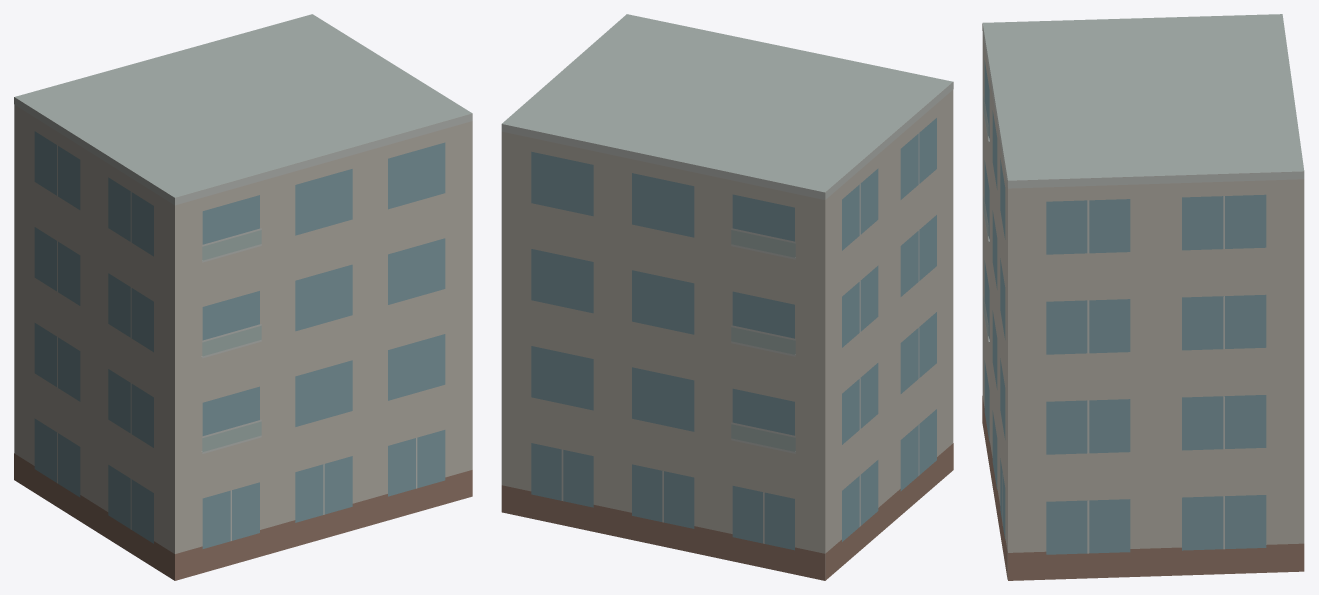
The model's file is survey-upis-33013196.glb.
The picture shows the model from 3 angles, left to right: view 1: azimuth 30°, elevation 25°; view 2: azimuth 150°, elevation 25°; view 3: azimuth 270°, elevation 25°; orthographic projection. The views are drawn at different scales.
Parts seen in each view (by area): view 1: survey-upis-33013196.tmp; view 2: survey-upis-33013196.tmp; view 3: survey-upis-33013196.tmp.
Boxes of the visible parts, x1,y1,x2,y2 form: survey-upis-33013196.tmp: [14, 14, 472, 580]; survey-upis-33013196.tmp: [501, 14, 953, 580]; survey-upis-33013196.tmp: [982, 14, 1304, 580].
Size of the model in its own units: 11.09 by 12.4 by 9.05.
